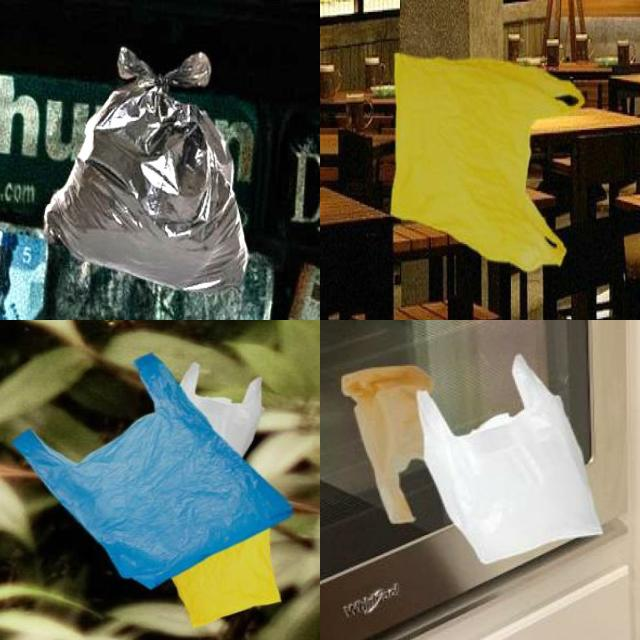Single-layer Plastic: (14, 354, 291, 589), (45, 48, 248, 289), (391, 54, 582, 271), (418, 355, 601, 564), (341, 365, 434, 523), (180, 362, 262, 456)
